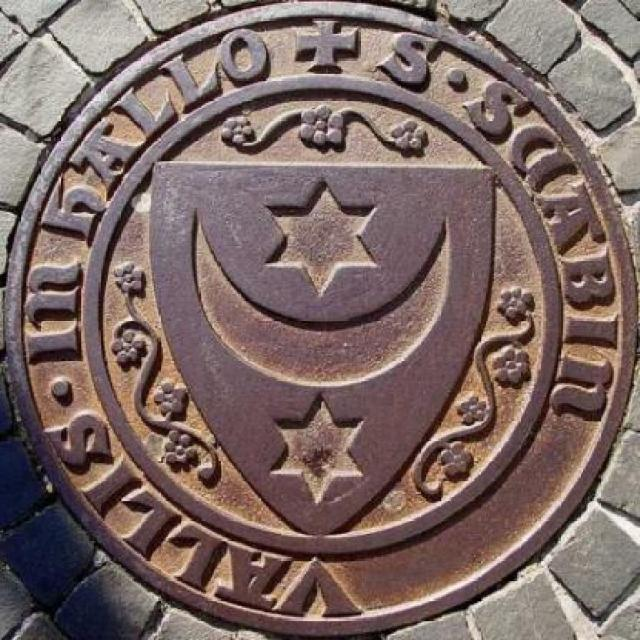Manhole: (4, 4, 636, 636)
